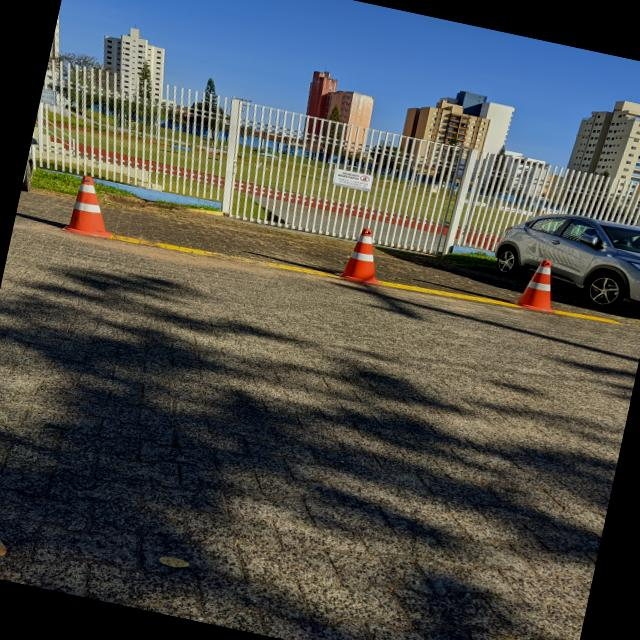cone: (59, 168, 130, 244), (332, 220, 397, 290), (508, 250, 572, 318)
